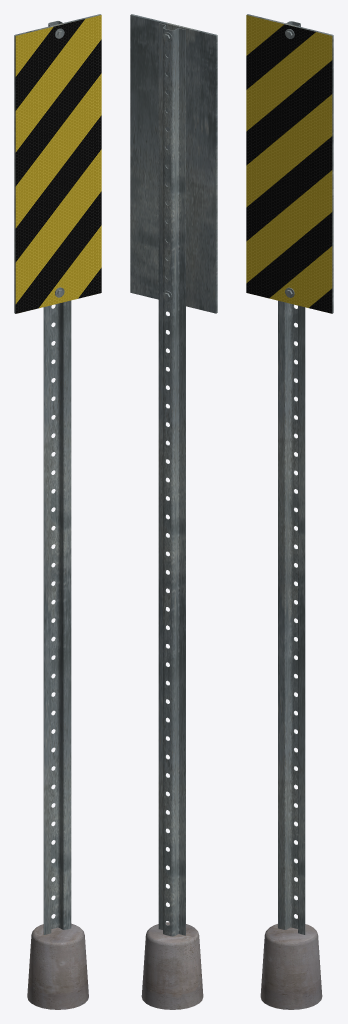
Rendered from hazard_nsoc.obj.
The picture shows the model from 3 angles, left to right: view 1: azimuth 30°, elevation 25°; view 2: azimuth 150°, elevation 25°; view 3: azimuth 330°, elevation 25°; orthographic projection.
Visible parts, largest first — view 1: sign_hazard; view 2: sign_hazard; view 3: sign_hazard.
Boxes of the visible parts, x1,y1,x2,y2 form: sign_hazard: (14, 14, 101, 1009); sign_hazard: (130, 14, 217, 1009); sign_hazard: (246, 14, 333, 1009).
Size of the model in its own units: 9.42 by 102 by 5.84.
3 materials, 3 textured.
